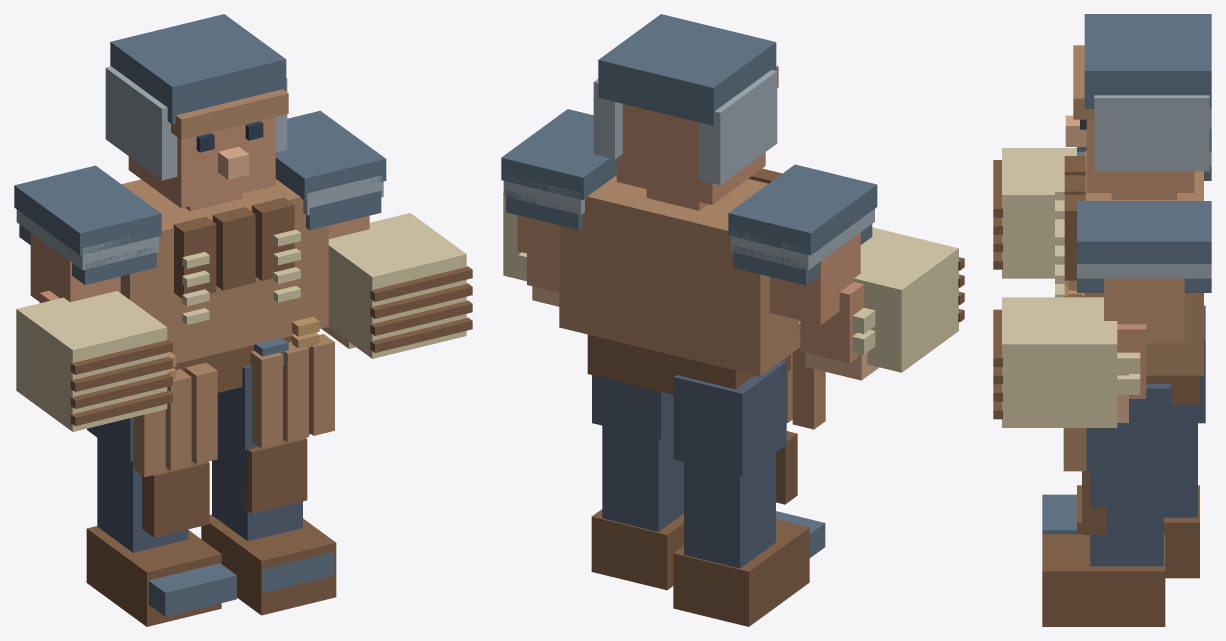
Rendered from arena-q-boxer.glb.
The picture shows the model from 3 angles, left to right: view 1: azimuth 30°, elevation 25°; view 2: azimuth 150°, elevation 25°; view 3: azimuth 270°, elevation 25°; orthographic projection. The views are drawn at different scales.
Visible parts, largest first — view 1: Gloves, Shoulders, Boots, Helmet, Cloth, Skirt, Legs, Greaves, Vest, Head, Arms, Headband (+3 smaller); view 2: Cloth, Legs, Shoulders, Helmet, Boots, Gloves, Arms, Head, Belt, Skirt, Hands, Greaves (+1 smaller); view 3: Gloves, Helmet, Legs, Boots, Shoulders, Arms, Cloth, Head, Vest, Belt, Vest_Lacing, Skirt (+5 smaller).
Part boxes in pixels (bbox=[...]): Gloves: bbox=[16, 213, 472, 431]; Shoulders: bbox=[14, 110, 386, 284]; Boots: bbox=[86, 514, 336, 626]; Helmet: bbox=[105, 14, 287, 180]; Cloth: bbox=[120, 179, 328, 363]; Skirt: bbox=[133, 334, 334, 477]; Legs: bbox=[87, 364, 310, 552]; Greaves: bbox=[142, 438, 307, 537]; Vest: bbox=[173, 197, 294, 298]; Head: bbox=[128, 117, 275, 211]; Arms: bbox=[30, 215, 369, 302]; Headband: bbox=[171, 89, 288, 139]; Cloth: bbox=[559, 175, 800, 376]; Legs: bbox=[592, 361, 786, 568]; Shoulders: bbox=[501, 109, 877, 285]; Helmet: bbox=[593, 14, 777, 184]; Boots: bbox=[591, 509, 825, 626]; Gloves: bbox=[503, 193, 964, 372]; Arms: bbox=[517, 215, 863, 363]; Head: bbox=[616, 104, 765, 210]; Belt: bbox=[587, 334, 790, 394]; Skirt: bbox=[786, 347, 825, 429]; Hands: bbox=[532, 286, 878, 380]; Greaves: bbox=[776, 431, 797, 504]; Gloves: bbox=[993, 148, 1117, 427]; Helmet: bbox=[1084, 14, 1211, 171]; Legs: bbox=[1082, 305, 1205, 566]; Boots: bbox=[1042, 485, 1199, 626]; Shoulders: bbox=[1077, 109, 1211, 292]; Arms: bbox=[1104, 278, 1184, 398]; Cloth: bbox=[1084, 151, 1203, 375]; Head: bbox=[1086, 119, 1194, 199]; Vest: bbox=[1064, 156, 1085, 280]; Belt: bbox=[1068, 280, 1199, 404]; Vest_Lacing: bbox=[1055, 180, 1064, 297]; Skirt: bbox=[1063, 285, 1086, 471].
Size of the model in its own units: 1.41 by 1.8 by 0.6569.
